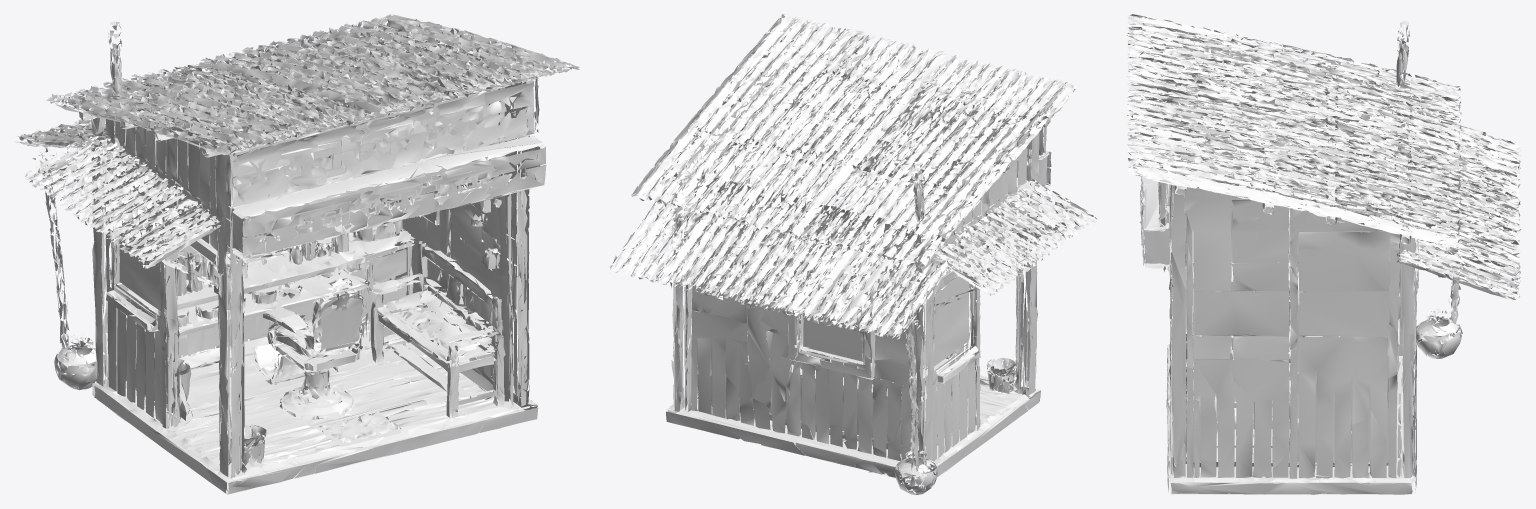
File: barber-shop.glb
3 views of the same model, side by side, from view 1: azimuth 30°, elevation 25°; view 2: azimuth 150°, elevation 25°; view 3: azimuth 270°, elevation 25° (orthographic). The views are drawn at different scales.
Parts seen in each view (by area): view 1: model; view 2: model; view 3: model.
Part boxes in pixels (left/top/right/bottom): model: left=14, top=14, right=579, bottom=494; model: left=609, top=14, right=1096, bottom=494; model: left=1127, top=14, right=1520, bottom=494.
Size of the model in its own units: 1.9 by 1.68 by 1.75.
1 material, 1 textured.
